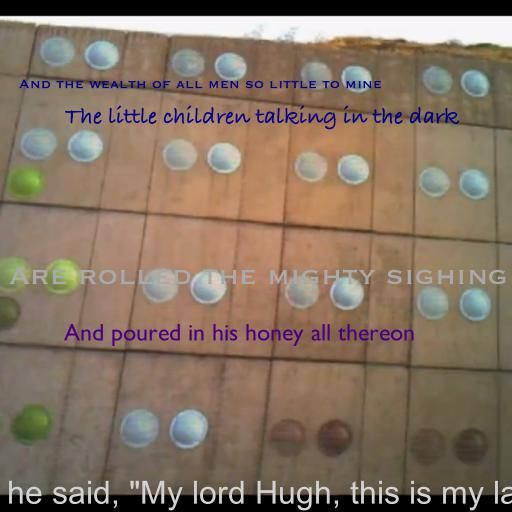Arial: (0, 480, 512, 511)
Bradley Hand: (65, 105, 459, 130)
Copperplate: (8, 267, 508, 285), (18, 79, 382, 89)
Gill Sans: (63, 323, 415, 346)
